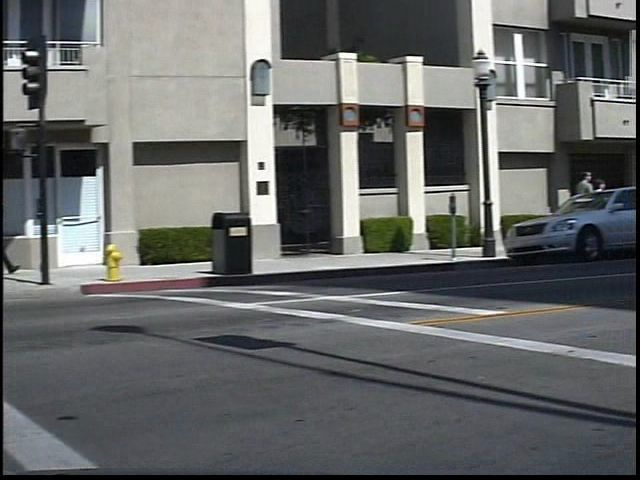person: (581, 166, 605, 243), (601, 175, 620, 235)
